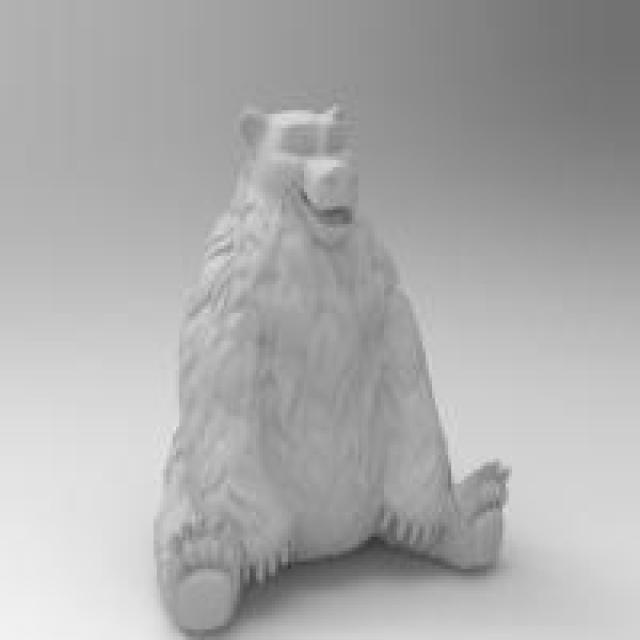Without deffect: (155, 86, 523, 640)
